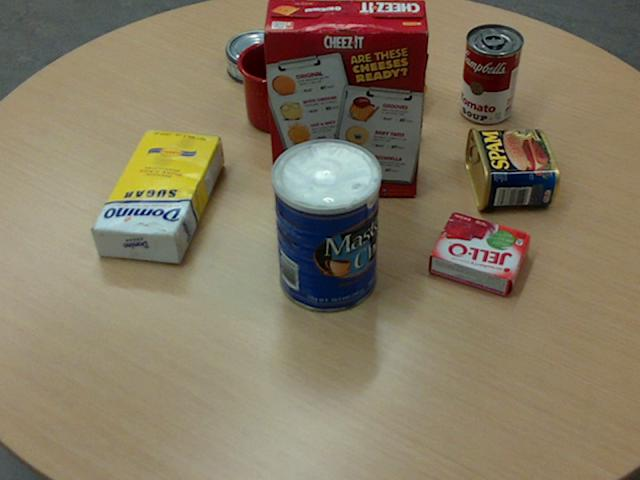cracker_box: (260, 0, 428, 194)
gelatin_box: (428, 211, 532, 295)
large_marker: (406, 49, 428, 140)
master_chef_can: (270, 138, 380, 312)
mug: (236, 39, 319, 132)
mustard_bottle: (297, 8, 427, 97)
potted_meat_can: (464, 126, 558, 210)
sugar_box: (89, 128, 221, 263)
tomato_soup_can: (459, 23, 523, 123)
tuna_fish_can: (224, 28, 289, 84)
